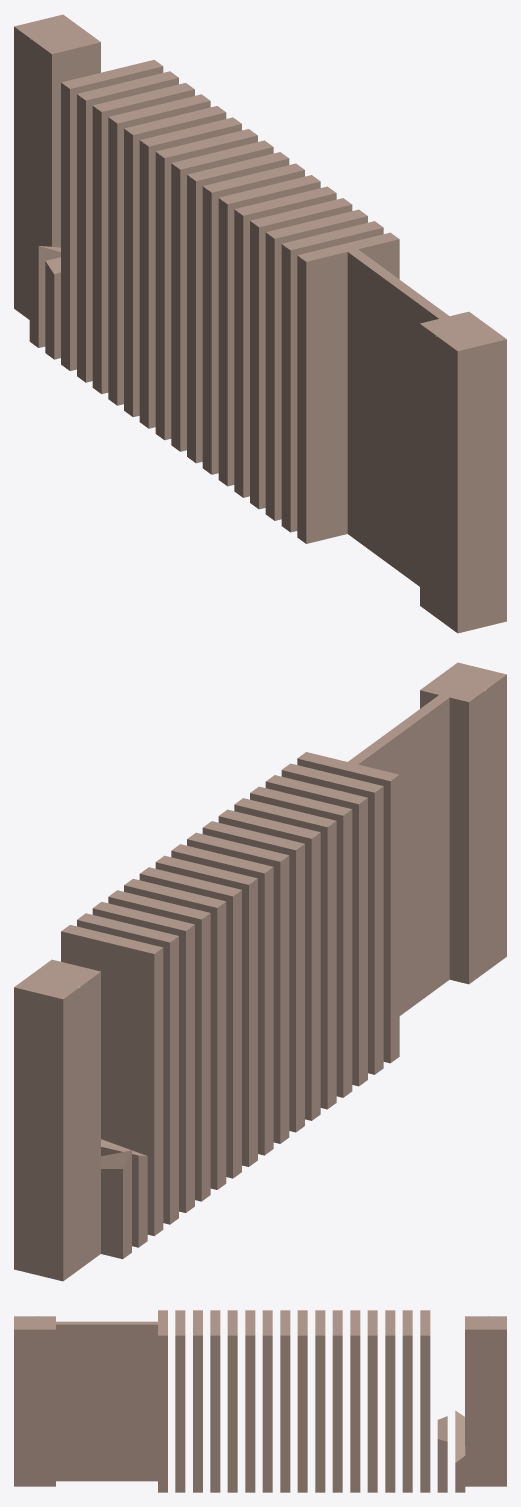
The model's file is Nivel5.fbx.
The picture shows the model from 3 angles, top to bottom: view 1: azimuth 30°, elevation 25°; view 2: azimuth 150°, elevation 25°; view 3: azimuth 270°, elevation 25°; orthographic projection. The views are drawn at different scales.
Parts seen in each view (by area): view 1: Plataforma-M .007, Plataforma-M .004, Plataforma-M .005, Plataforma-M .006, Plataforma-M .018, Plataforma-M .008, Plataforma-M .014, Plataforma-M .017, Plataforma-M .009, Plataforma-M .013, Plataforma-M .021, Plataforma-M .020 (+9 smaller); view 2: Plataforma-M .006, Plataforma-M .007, Plataforma-M .004, Plataforma-M .023, Plataforma-M .019, Plataforma-M .005, Plataforma-M .012, Plataforma-M .010, Plataforma-M .015, Plataforma-M .020, Plataforma-M .008, Plataforma-M .017 (+9 smaller); view 3: Plataforma-M .004, Plataforma-M .006, Plataforma-M .007, Plataforma-M .008, Plataforma-M .010, Plataforma-M .012, Plataforma-M .013, Plataforma-M .014, Plataforma-M .015, Plataforma-M .016, Plataforma-M .017, Plataforma-M .018 (+9 smaller).
Boxes of the visible parts, <box> form: Plataforma-M .007: <box>420,311,506,633</box>; Plataforma-M .004: <box>347,249,449,586</box>; Plataforma-M .005: <box>297,232,399,543</box>; Plataforma-M .006: <box>14,14,100,319</box>; Plataforma-M .018: <box>139,117,241,428</box>; Plataforma-M .008: <box>281,221,383,532</box>; Plataforma-M .014: <box>202,163,304,474</box>; Plataforma-M .017: <box>155,129,257,440</box>; Plataforma-M .009: <box>265,209,367,520</box>; Plataforma-M .013: <box>218,175,320,486</box>; Plataforma-M .021: <box>92,83,194,394</box>; Plataforma-M .020: <box>108,94,210,405</box>; Plataforma-M .006: <box>14,959,100,1281</box>; Plataforma-M .007: <box>420,662,506,984</box>; Plataforma-M .004: <box>348,695,449,1015</box>; Plataforma-M .023: <box>61,925,163,1236</box>; Plataforma-M .019: <box>124,878,226,1189</box>; Plataforma-M .005: <box>297,752,399,1063</box>; Plataforma-M .012: <box>234,798,336,1109</box>; Plataforma-M .010: <box>250,786,352,1097</box>; Plataforma-M .015: <box>187,832,289,1143</box>; Plataforma-M .020: <box>108,890,210,1201</box>; Plataforma-M .008: <box>281,763,383,1074</box>; Plataforma-M .017: <box>155,855,257,1166</box>; Plataforma-M .004: <box>56,1321,157,1481</box>; Plataforma-M .006: <box>465,1316,506,1486</box>; Plataforma-M .007: <box>14,1316,55,1486</box>; Plataforma-M .008: <box>175,1310,185,1492</box>; Plataforma-M .010: <box>210,1310,220,1492</box>; Plataforma-M .012: <box>227,1310,237,1492</box>; Plataforma-M .013: <box>245,1310,255,1492</box>; Plataforma-M .014: <box>262,1310,272,1492</box>; Plataforma-M .015: <box>280,1310,290,1492</box>; Plataforma-M .016: <box>297,1310,307,1492</box>; Plataforma-M .017: <box>315,1310,325,1492</box>; Plataforma-M .018: <box>332,1310,342,1492</box>.
Bounding box in the file's own units: 2301 × 6652 × 18964.
